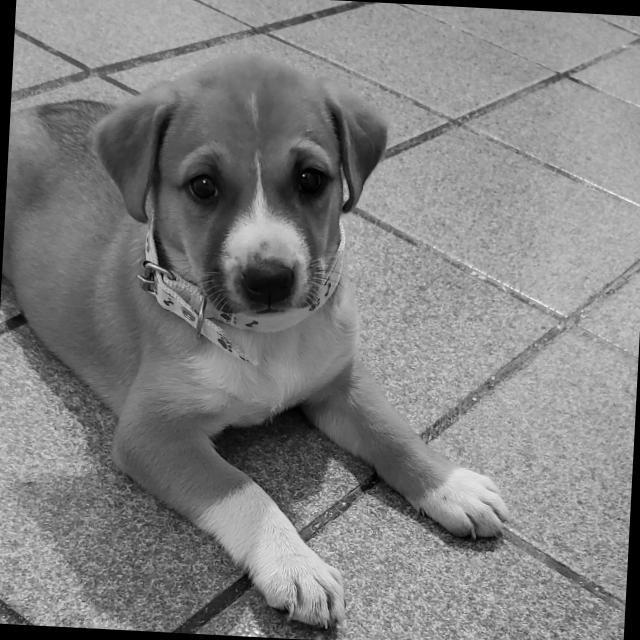laying down: (0, 44, 533, 639)
